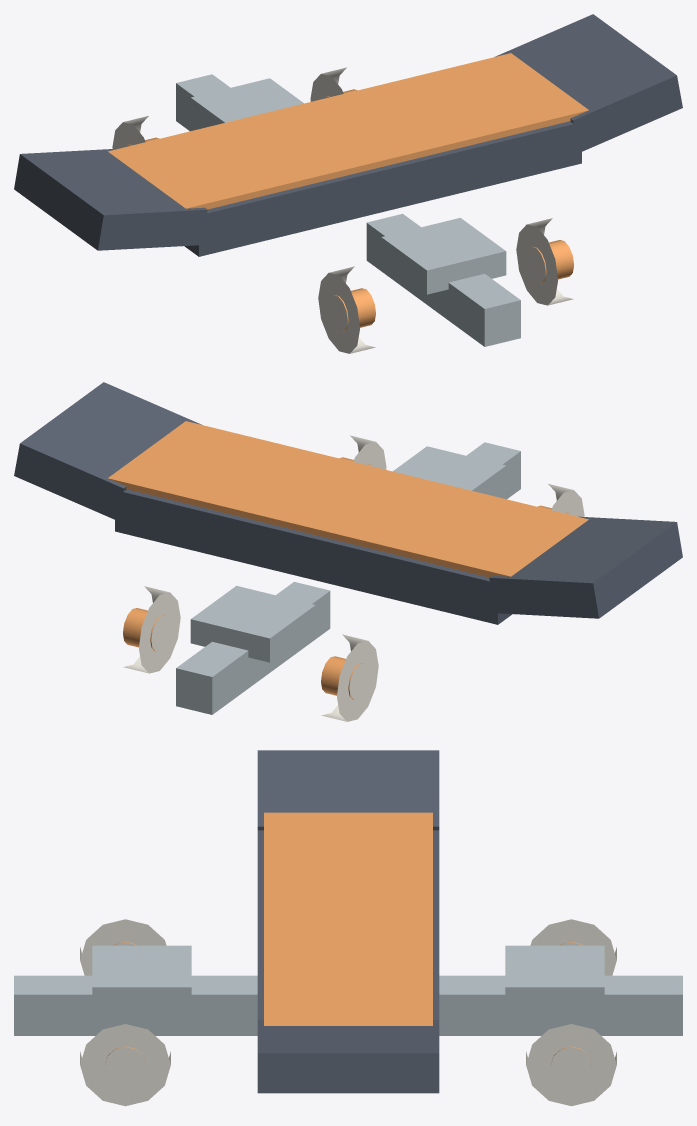
The model's file is skateboard-procedural.glb.
The picture shows the model from 3 angles, top to bottom: view 1: azimuth 30°, elevation 25°; view 2: azimuth 150°, elevation 25°; view 3: azimuth 270°, elevation 25°; orthographic projection. The views are drawn at different scales.
Visible parts, largest first — view 1: deck_top, kicked_nose (×2), deck, truck_base (×2), truck_axle (×2), wheel_bl, wheel_br, wheel_fr, wheel_fl, wheel_bl_hub, wheel_br_hub; view 2: deck_top, kicked_nose (×2), deck, truck_base (×2), truck_axle (×2), wheel_fl, wheel_fr, wheel_br, wheel_bl, wheel_fl_hub, wheel_fr_hub; view 3: deck_top, kicked_nose (×2), truck_axle (×2), truck_base (×2), wheel_fr, wheel_br, deck, wheel_fl, wheel_bl.
Boxes of the visible parts, x1,y1,x2,y2 form: deck_top: [108, 53, 588, 209]; kicked_nose (×2): [14, 14, 682, 250]; deck: [184, 121, 581, 256]; truck_base (×2): [190, 78, 506, 294]; truck_axle (×2): [176, 74, 520, 346]; wheel_bl: [318, 266, 375, 353]; wheel_br: [516, 218, 573, 305]; wheel_fr: [310, 67, 346, 101]; wheel_fl: [112, 116, 148, 148]; wheel_bl_hub: [333, 288, 375, 331]; wheel_br_hub: [532, 240, 573, 283]; deck_top: [108, 421, 588, 577]; kicked_nose (×2): [14, 382, 682, 618]; deck: [115, 489, 512, 624]; truck_base (×2): [190, 446, 506, 662]; truck_axle (×2): [176, 442, 520, 714]; wheel_fl: [321, 634, 378, 721]; wheel_fr: [123, 586, 180, 673]; wheel_br: [350, 435, 386, 469]; wheel_bl: [548, 484, 584, 516]; wheel_fl_hub: [321, 656, 363, 699]; wheel_fr_hub: [123, 608, 164, 651]; deck_top: [264, 812, 432, 1025]; kicked_nose (×2): [257, 750, 439, 1093]; truck_axle (×2): [14, 975, 682, 1035]; truck_base (×2): [92, 945, 604, 1013]; wheel_fr: [526, 1024, 616, 1106]; wheel_br: [80, 1024, 170, 1106]; deck: [257, 830, 439, 1019]; wheel_fl: [530, 919, 616, 975]; wheel_bl: [80, 919, 166, 975].
Size of the model in its own units: 0.8864 by 0.1939 by 0.81.
